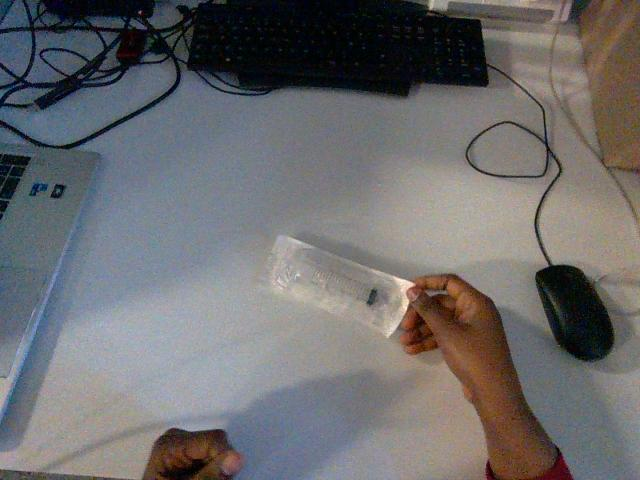syringe: (267, 236, 413, 336)
